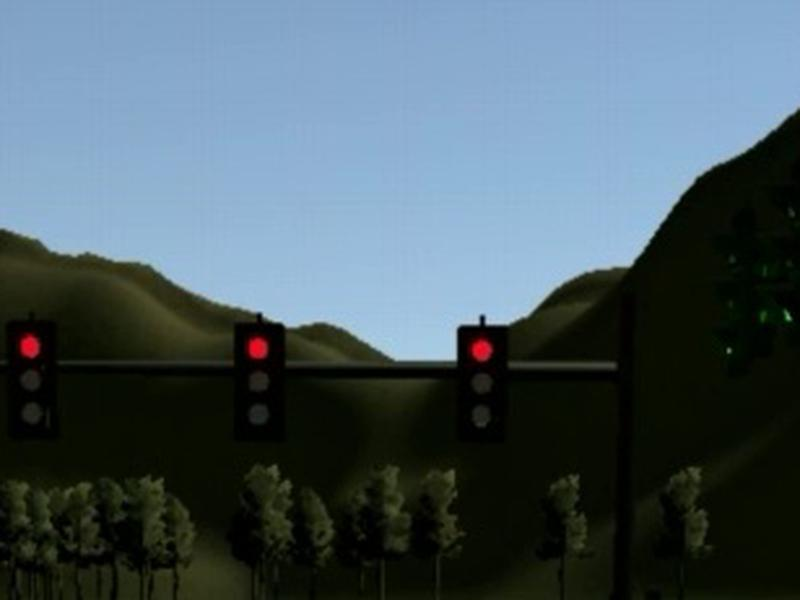Red: (453, 324, 511, 440), (5, 318, 59, 435), (232, 322, 286, 431)
